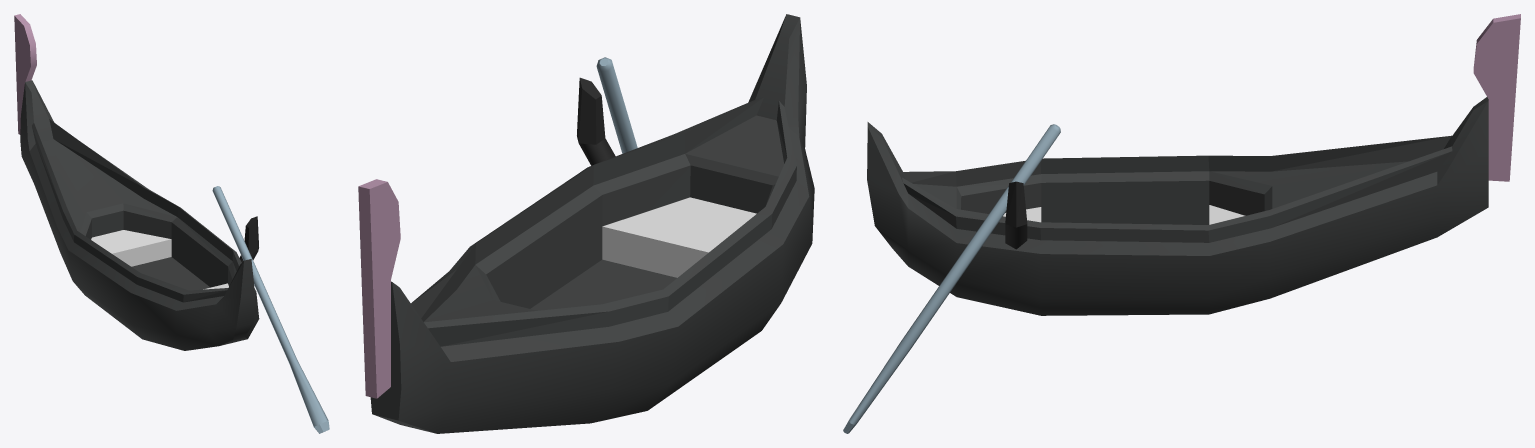
The model's file is Boot.FBX.
3 views of the same model, side by side, from view 1: azimuth 30°, elevation 25°; view 2: azimuth 150°, elevation 25°; view 3: azimuth 270°, elevation 25° (orthographic). The views are drawn at different scales.
Visible parts, largest first — view 1: Boot; view 2: Boot; view 3: Boot.
Part boxes in pixels (x1=…): Boot: x1=14, y1=14, x2=329, y2=433; Boot: x1=358, y1=14, x2=814, y2=433; Boot: x1=843, y1=14, x2=1520, y2=433.
Size of the model in its own units: 44.79 by 83.64 by 139.
